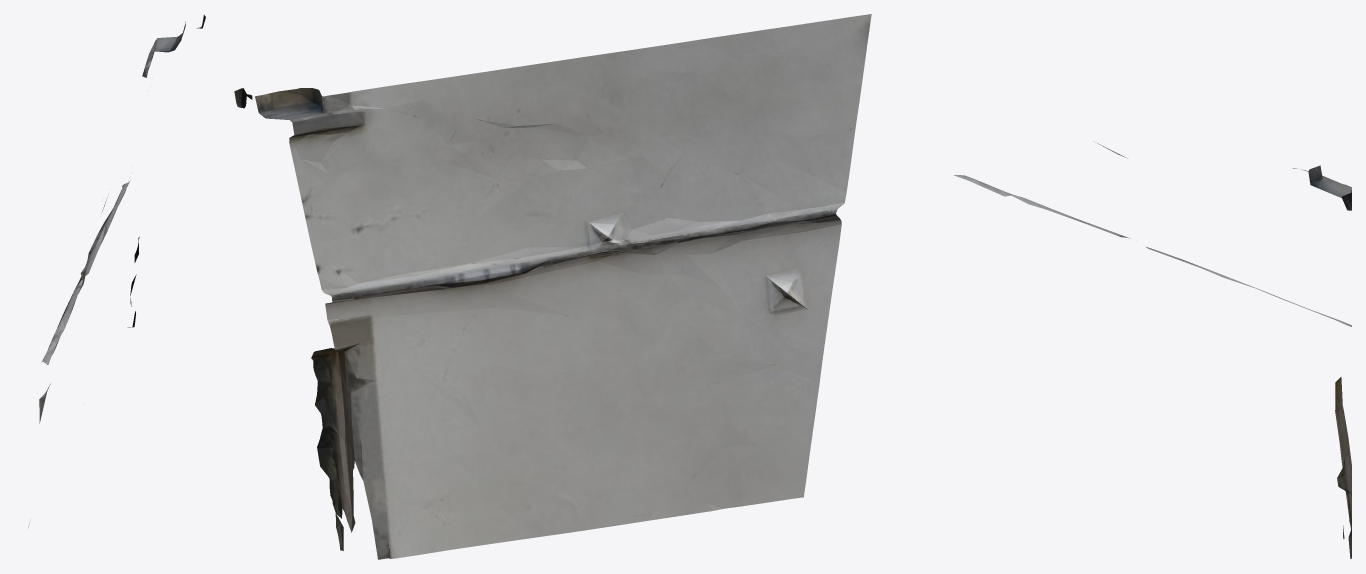
The picture shows the model from 3 angles, left to right: view 1: azimuth 30°, elevation 25°; view 2: azimuth 150°, elevation 25°; view 3: azimuth 270°, elevation 25°; orthographic projection. The views are drawn at different scales.
Bounding box in the file's own units: 3.22 × 3.35 × 3.34.
3 materials, 3 textured.
